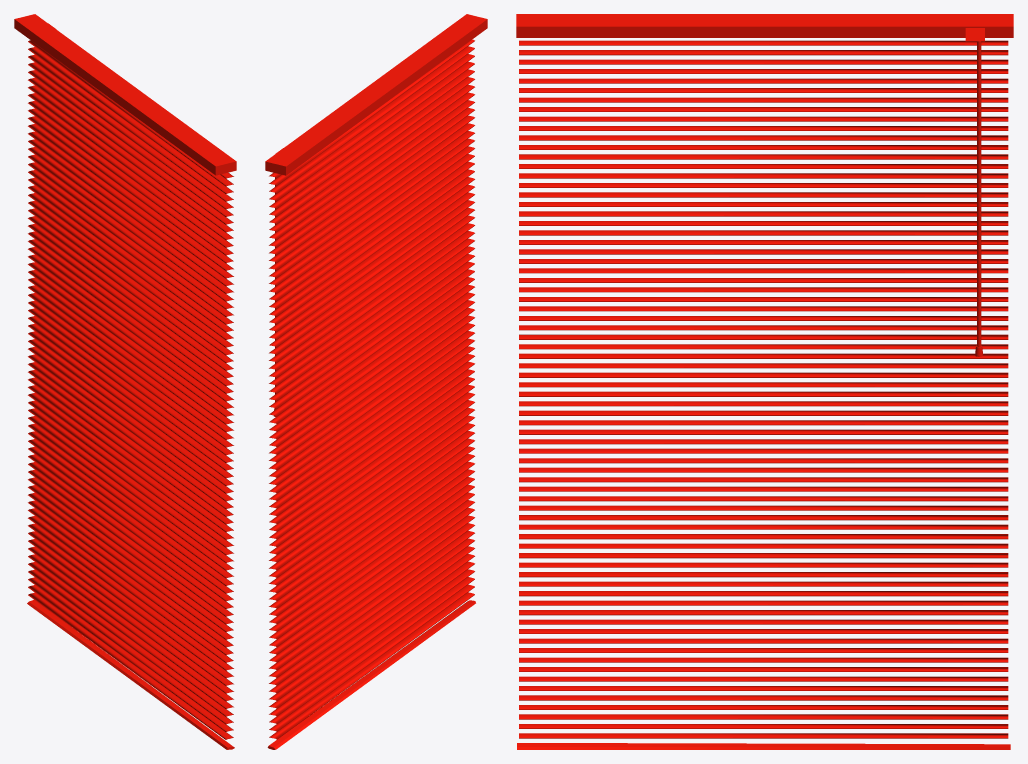
Rendered from STORES_vitre_deplies.FBX.
3 views of the same model, side by side, from view 1: azimuth 30°, elevation 25°; view 2: azimuth 150°, elevation 25°; view 3: azimuth 270°, elevation 25° (orthographic). The views are drawn at different scales.
Parts seen in each view (by area): view 1: stores003, stores_end003, Plane132, Plane139, Plane085, Plane088, Plane094, Plane097, Plane101, Plane116, Plane117, Plane124 (+63 smaller); view 2: stores003, stores_end003, Plane103, Plane116, Plane134, Plane083, Plane086, Plane090, Plane112, Plane120, Plane125, Plane128 (+63 smaller); view 3: stores003, stores_end003, Plane149, Plane151, Plane153, Plane114, Plane115, Plane116, Plane117, Plane118, Plane119, Plane120 (+65 smaller).
Boxes of the visible parts, left/top/right/bottom form: stores003: left=14, top=14, right=236, bottom=175; stores_end003: left=27, top=600, right=234, bottom=749; Plane132: left=28, top=431, right=233, bottom=578; Plane139: left=28, top=485, right=233, bottom=632; Plane085: left=28, top=70, right=233, bottom=217; Plane088: left=28, top=93, right=233, bottom=240; Plane094: left=28, top=139, right=233, bottom=286; Plane097: left=28, top=162, right=233, bottom=309; Plane101: left=28, top=193, right=233, bottom=339; Plane116: left=28, top=308, right=233, bottom=455; Plane117: left=28, top=316, right=233, bottom=462; Plane124: left=28, top=370, right=233, bottom=516; stores003: left=265, top=14, right=487, bottom=175; stores_end003: left=267, top=600, right=475, bottom=749; Plane103: left=269, top=207, right=474, bottom=354; Plane116: left=269, top=307, right=474, bottom=454; Plane134: left=269, top=446, right=474, bottom=593; Plane083: left=269, top=54, right=474, bottom=200; Plane086: left=269, top=77, right=474, bottom=224; Plane090: left=269, top=107, right=474, bottom=254; Plane112: left=269, top=277, right=474, bottom=424; Plane120: left=269, top=338, right=474, bottom=485; Plane125: left=269, top=377, right=474, bottom=523; Plane128: left=269, top=400, right=474, bottom=547; stores003: left=516, top=14, right=1013, bottom=41; stores_end003: left=517, top=743, right=1010, bottom=749; Plane149: left=519, top=695, right=1008, bottom=700; Plane151: left=519, top=714, right=1008, bottom=719; Plane153: left=519, top=733, right=1008, bottom=738; Plane114: left=519, top=363, right=1008, bottom=368; Plane115: left=519, top=372, right=1008, bottom=377; Plane116: left=519, top=382, right=1008, bottom=387; Plane117: left=519, top=391, right=1008, bottom=396; Plane118: left=519, top=401, right=1008, bottom=406; Plane119: left=519, top=410, right=1008, bottom=415; Plane120: left=519, top=420, right=1008, bottom=425.
Bounding box in the file's own units: 3.56 × 74.28 × 46.17.
